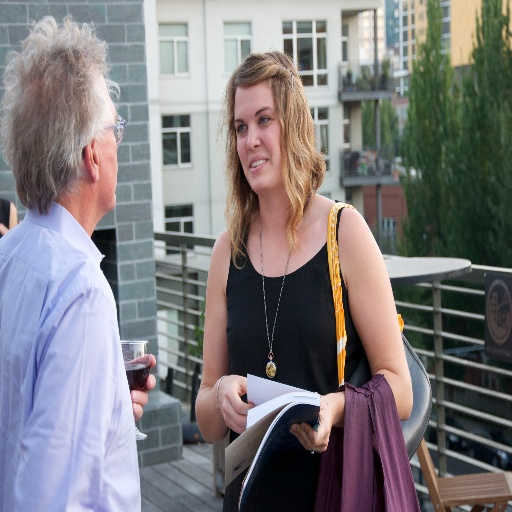hand: (286, 394, 336, 453), (215, 372, 256, 436), (122, 353, 156, 422)
